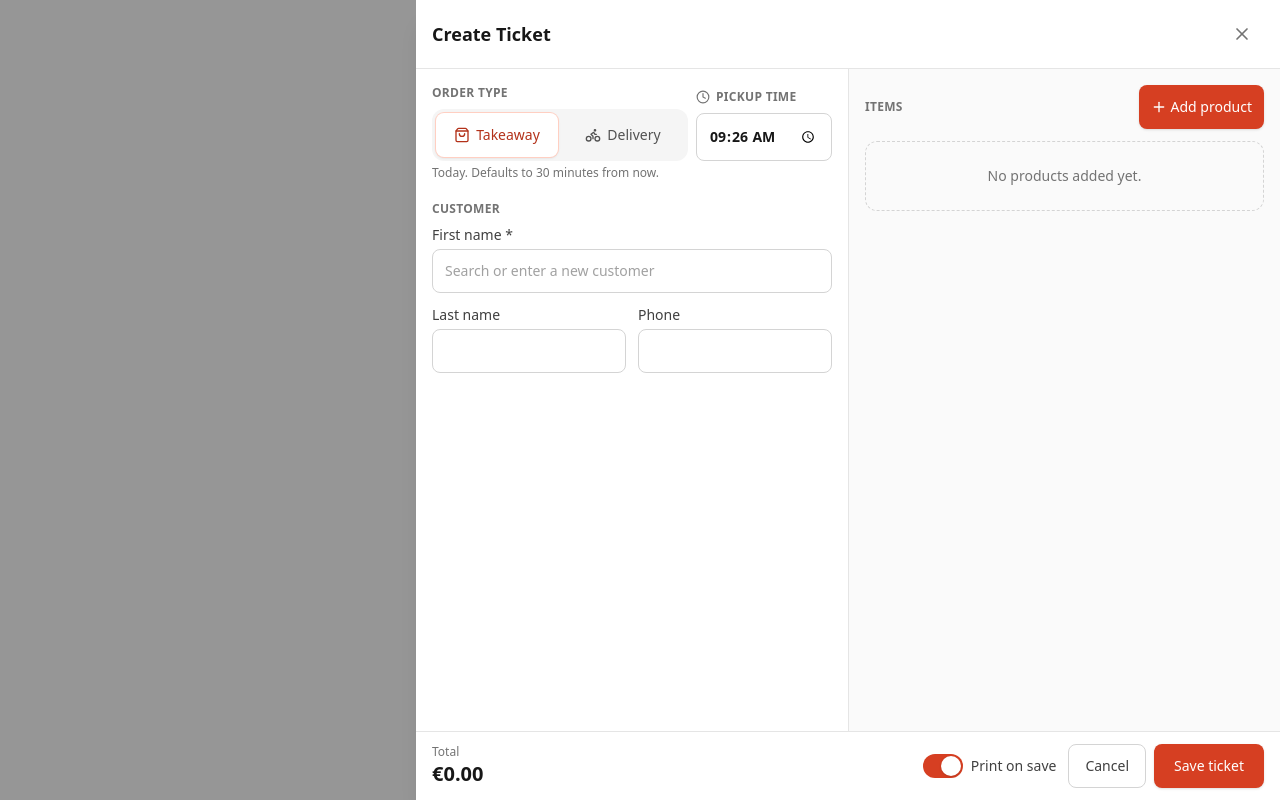
Test: TicketSidebar › switches the order type
Click the radio button labelled "Delivery". click: (623, 134)
box: [585, 125, 661, 144]
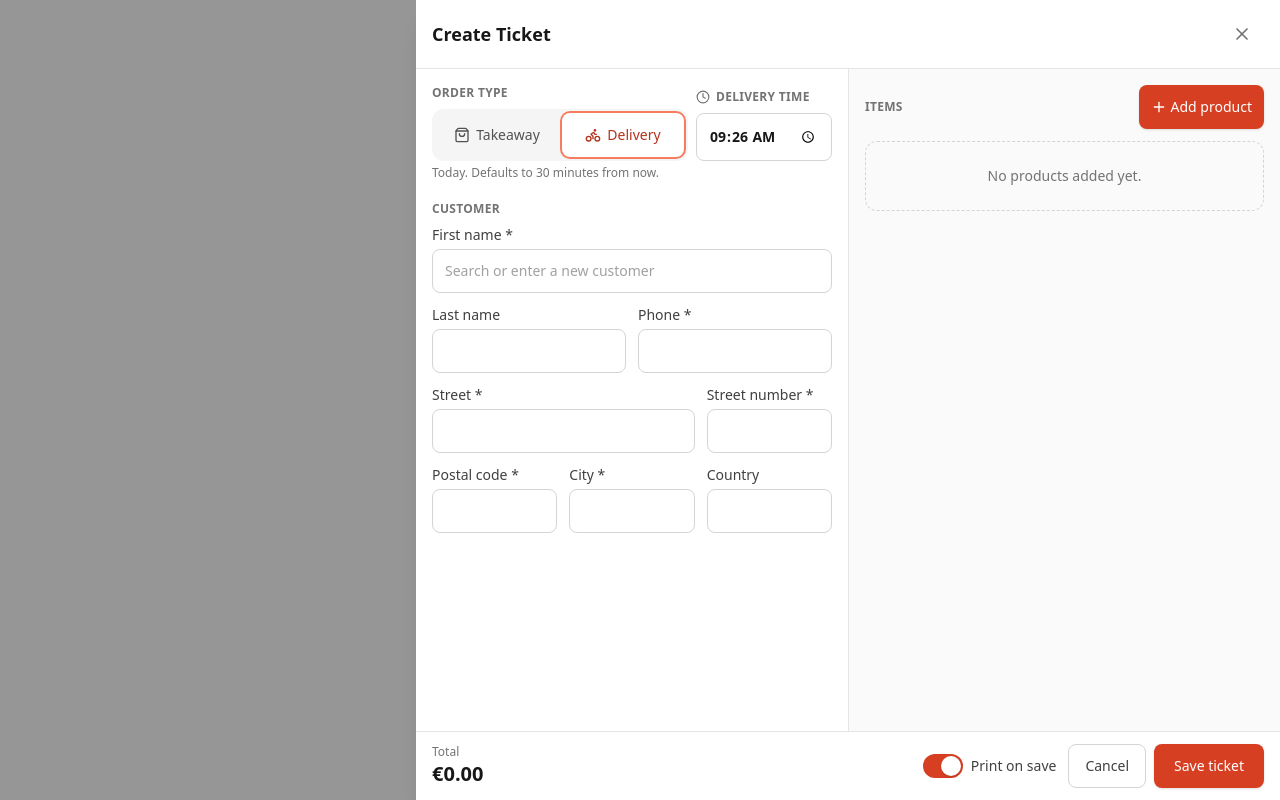
expect the time field labelled "Delivery time" is shown: met, box [696, 113, 832, 161]
expect the radio button labelled "Delivery" is checked: met, box [562, 113, 684, 157]
expect the radio button labelled "Takeaway" is not checked: met, box [454, 125, 540, 144]
